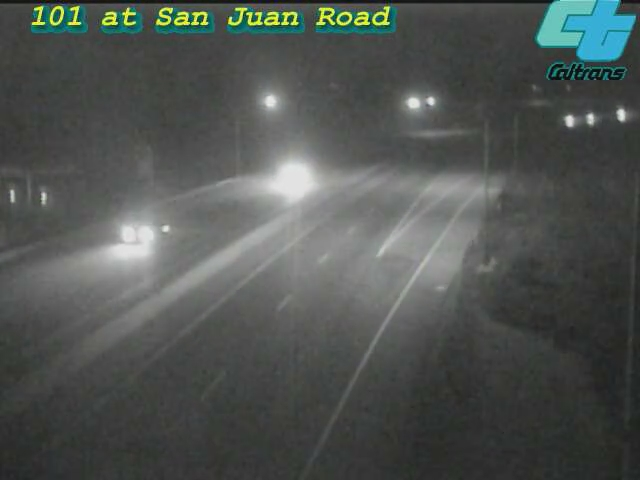vehicle: (98, 194, 178, 274), (245, 142, 325, 222), (569, 92, 619, 142), (544, 96, 594, 146), (596, 90, 640, 140)
